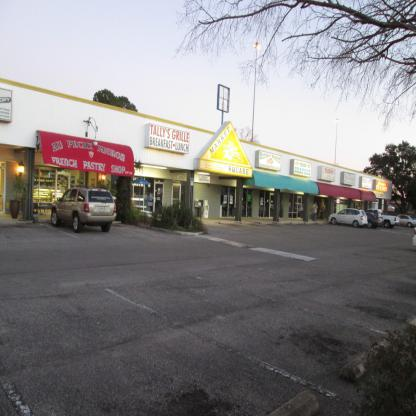car: (52, 186, 117, 233), (329, 208, 370, 229), (367, 210, 383, 227), (400, 216, 416, 228), (412, 230, 416, 254)
